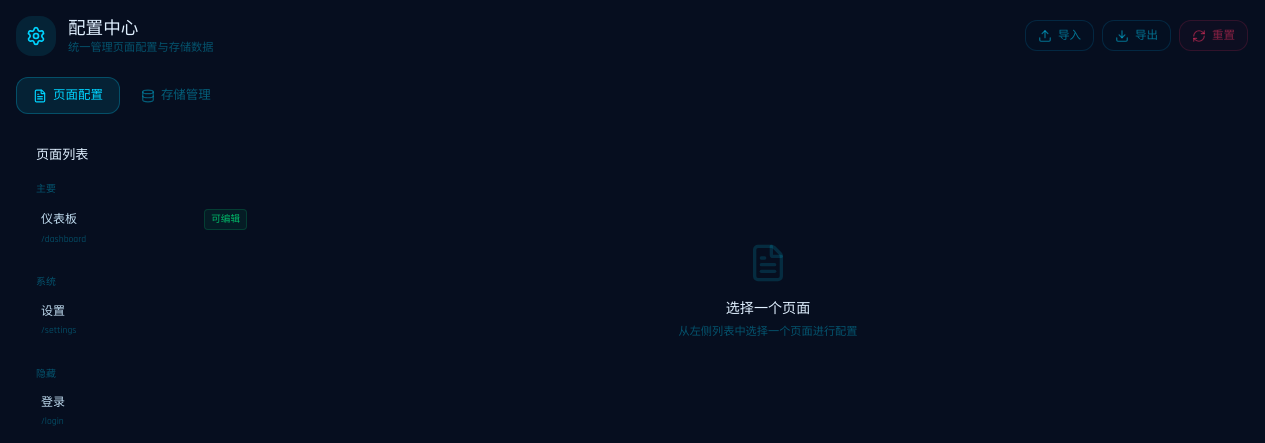
ConfigCenter › storage manager has clear key and clear all buttons
Click the button "存储管理".
click(176, 96)  # box top-left (124, 77), bottom-right (228, 114)
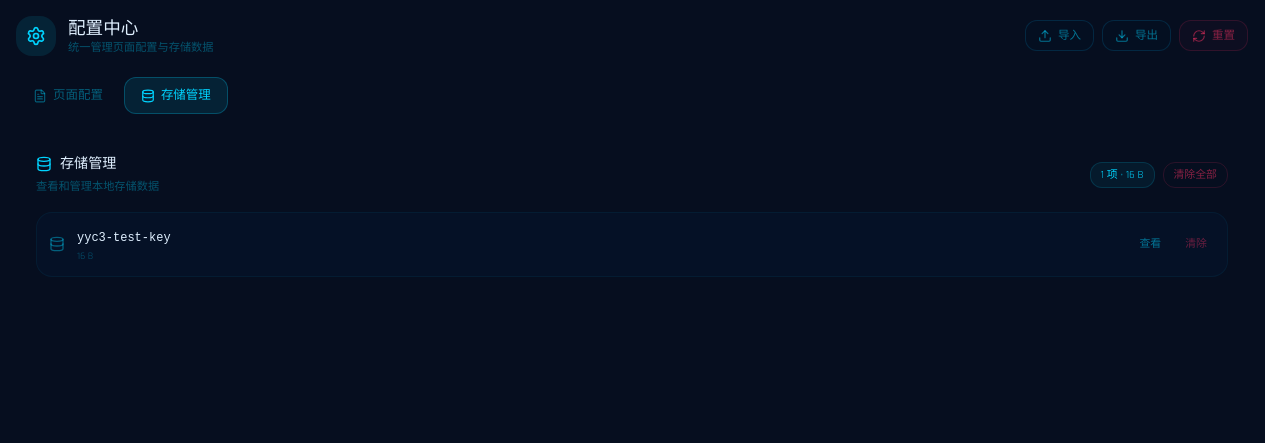
Result: the button "清除" is shown at top-left (1177, 232), bottom-right (1215, 256)
Result: the button "清除全部" is shown at top-left (1162, 162), bottom-right (1228, 188)
